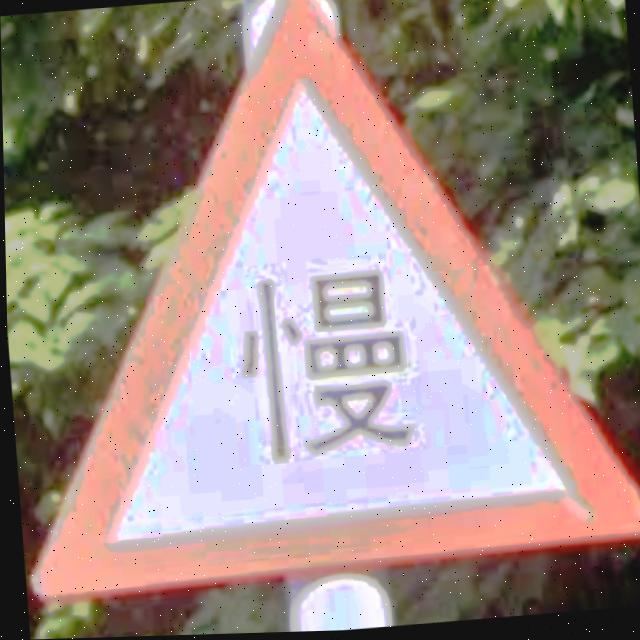slow: (28, 0, 640, 604)
